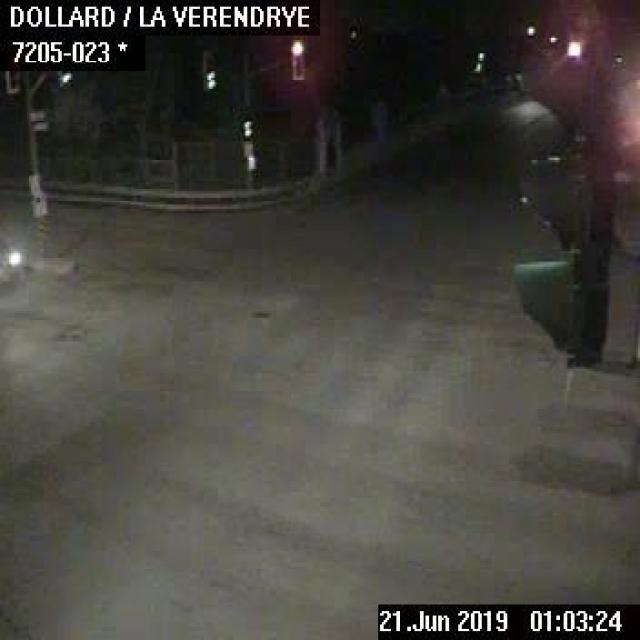vehicle: (0, 235, 27, 286)
